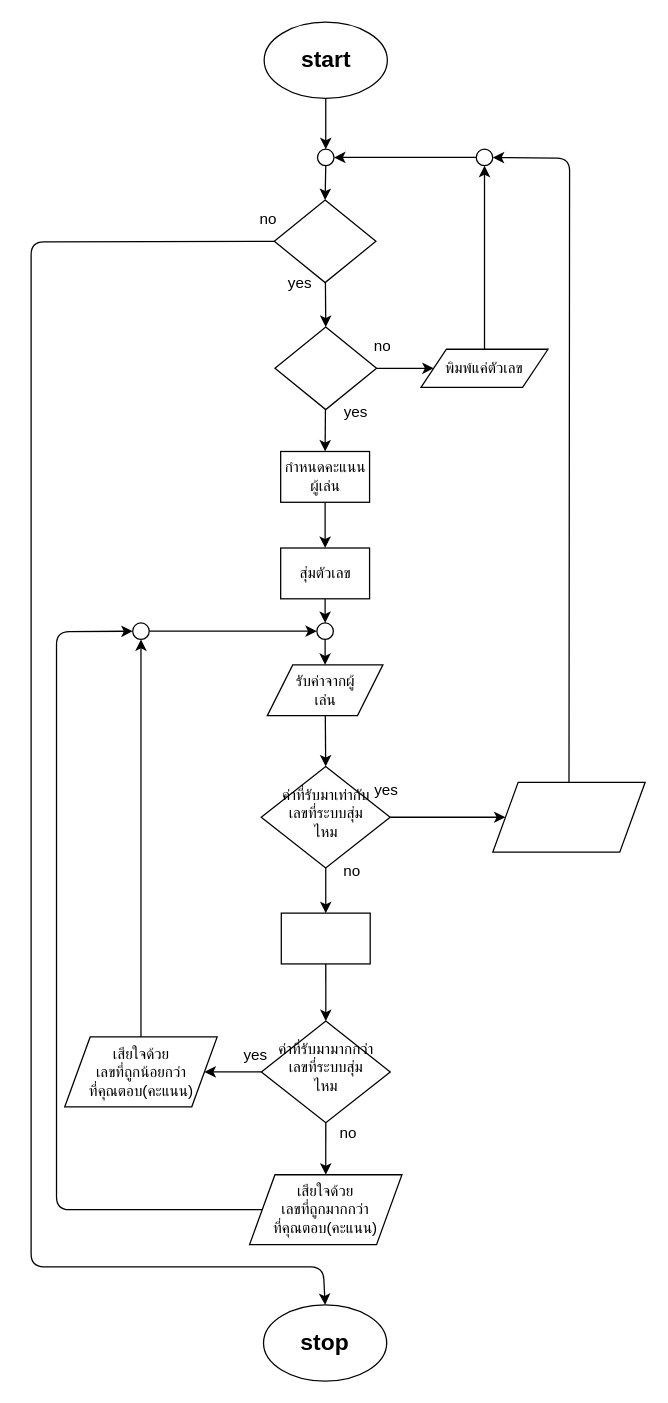
This 668x1403 diagram has some shape labels left out. The shapes that lost their labels are listed below. From the top down, each one's box as (x1, y1, x2, y2) in pixels, then its label:
(273, 199, 376, 283): ต้องการเล่นไหม
(274, 326, 377, 410): พิมพ์ตัวเลขมามั้ย
(491, 781, 645, 852): ยินดีด้วย เลขที่ถูกคือ... คะแนนของคุณคือ...
(280, 912, 370, 964): -10 คะแนน
